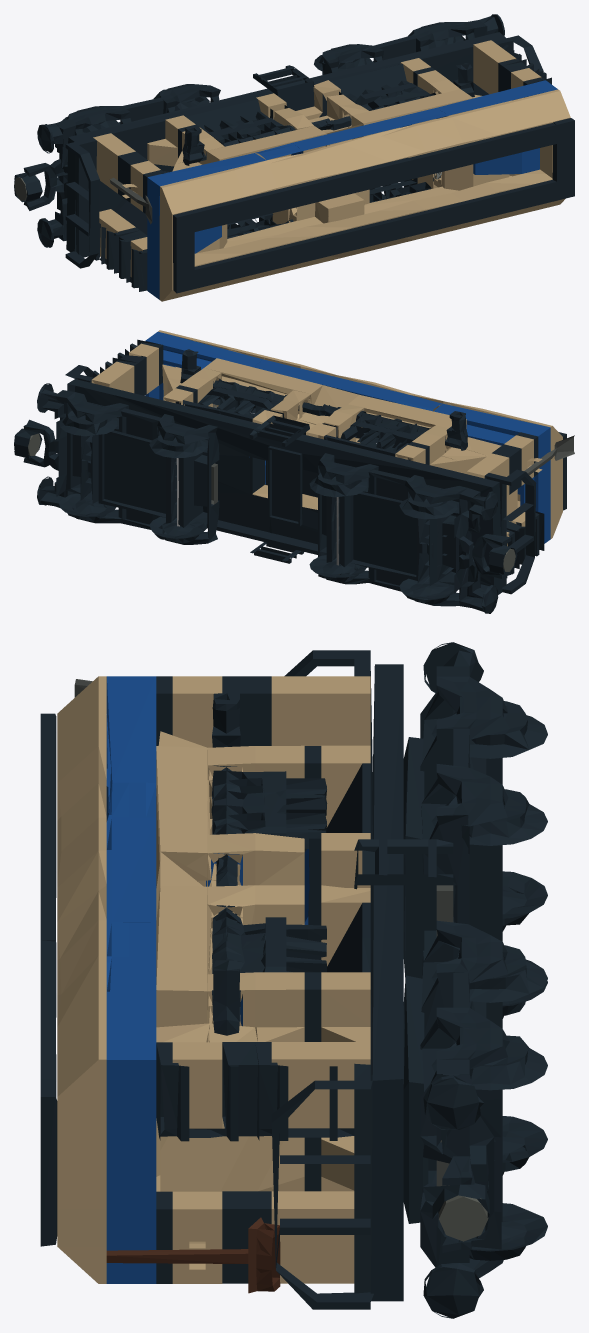
File: hopper-wagon.glb
The picture shows the model from 3 angles, top to bottom: view 1: azimuth 30°, elevation 25°; view 2: azimuth 150°, elevation 25°; view 3: azimuth 270°, elevation 25°; orthographic projection. The views are drawn at different scales.
Bounding box in the file's own units: 219 × 64.77 × 98.42.
